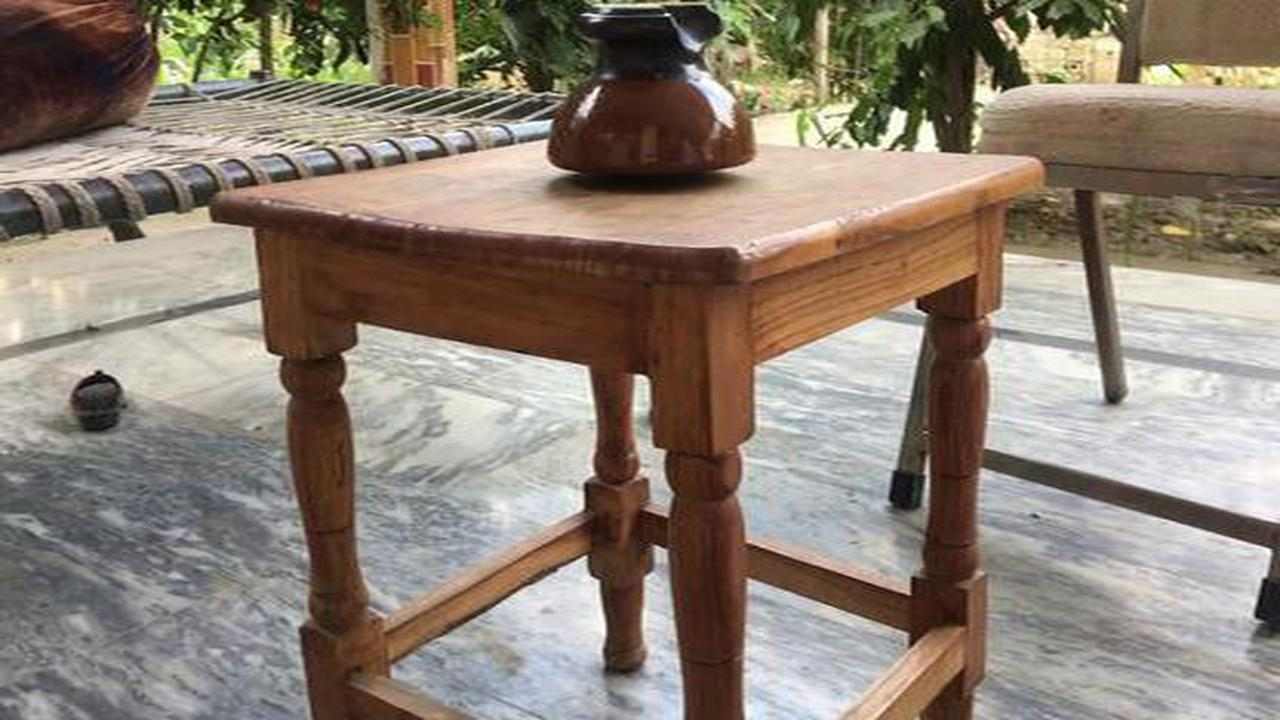insulator_pin: (542, 1, 773, 200)
